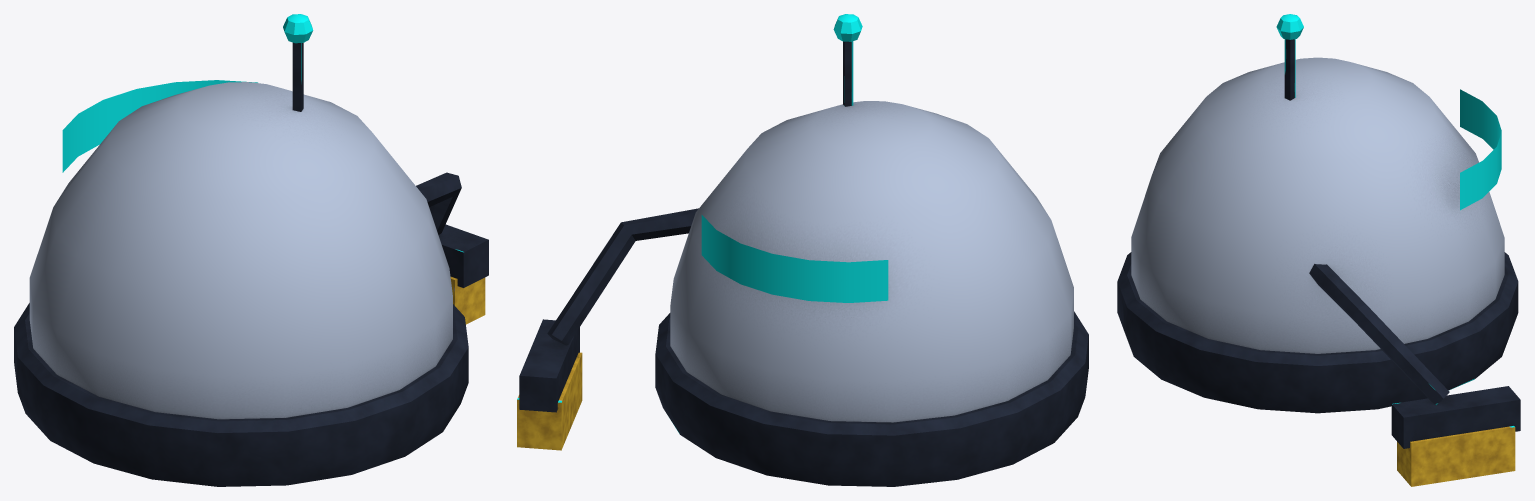
Rendered from trash_bot.fbx.
3 renders of one model, left to right at view 1: azimuth 30°, elevation 25°; view 2: azimuth 150°, elevation 25°; view 3: azimuth 270°, elevation 25°, orthographic. The views are drawn at different scales.
Parts seen in each view (by area): view 1: trash_bot, trash_bot_glow; view 2: trash_bot, trash_bot_glow; view 3: trash_bot, trash_bot_glow.
Boxes of the visible parts, x1,y1,x2,y2 form: trash_bot: (14,42,488,486); trash_bot_glow: (62,14,313,172); trash_bot: (517,41,1088,486); trash_bot_glow: (701,14,888,302); trash_bot: (1117,39,1520,486); trash_bot_glow: (1276,14,1501,210).
Bounding box in the file's own units: 363 × 290 × 292.
1 material, 1 textured.
